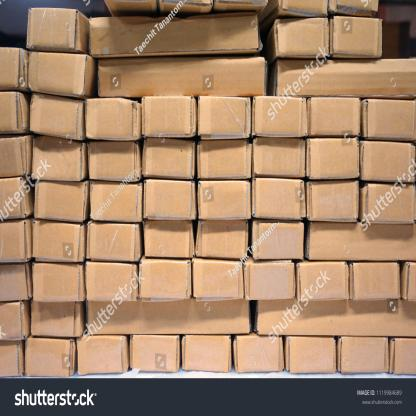box: (91, 10, 259, 58), (97, 58, 265, 95), (256, 300, 416, 336), (88, 299, 250, 334), (275, 60, 416, 97), (309, 221, 416, 260), (29, 93, 84, 141), (252, 96, 308, 139), (86, 98, 140, 141), (142, 96, 196, 139), (30, 53, 86, 94), (360, 142, 415, 183), (27, 7, 78, 51), (362, 99, 415, 141), (87, 221, 141, 262), (32, 138, 82, 182), (276, 17, 328, 59), (253, 136, 306, 177), (253, 178, 306, 219), (195, 219, 248, 260), (139, 260, 192, 301), (194, 256, 243, 300), (35, 180, 85, 223), (89, 140, 140, 182), (198, 96, 250, 137), (32, 262, 84, 303), (332, 16, 382, 58), (142, 138, 194, 178), (308, 138, 360, 178), (90, 182, 142, 222), (362, 183, 414, 223), (252, 222, 304, 262), (85, 262, 137, 302), (198, 140, 252, 178), (198, 181, 252, 219), (308, 182, 358, 223), (32, 221, 82, 262), (309, 96, 360, 136), (144, 180, 196, 219), (182, 334, 232, 374), (300, 261, 349, 301), (352, 261, 400, 301), (143, 220, 192, 259), (130, 335, 180, 373), (30, 302, 82, 338), (27, 337, 74, 376), (288, 335, 336, 373), (246, 262, 294, 299), (340, 336, 389, 372), (235, 336, 284, 371), (77, 337, 127, 371), (0, 221, 29, 262), (0, 92, 28, 134), (0, 263, 31, 299), (0, 138, 29, 176), (0, 49, 27, 89), (0, 302, 28, 340), (0, 178, 27, 216), (389, 336, 416, 374), (0, 341, 23, 375)
